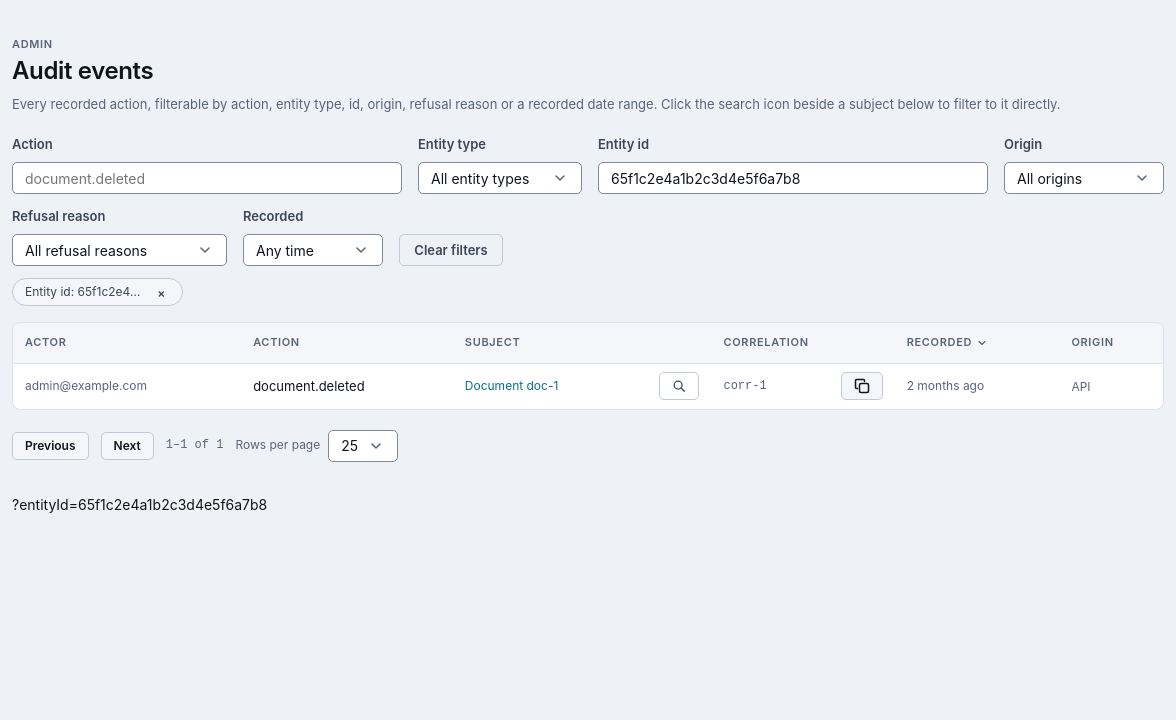
Scenario: AuditEventsPage › drops the entity id error when its chip is removed
expect the text "document.deleted" is shown: met, box x1=241 y1=364 x2=453 y2=409
Type "bad" into the field labelled "Entity id". click: (793, 178)
box: x1=598 y1=162 x2=988 y2=194
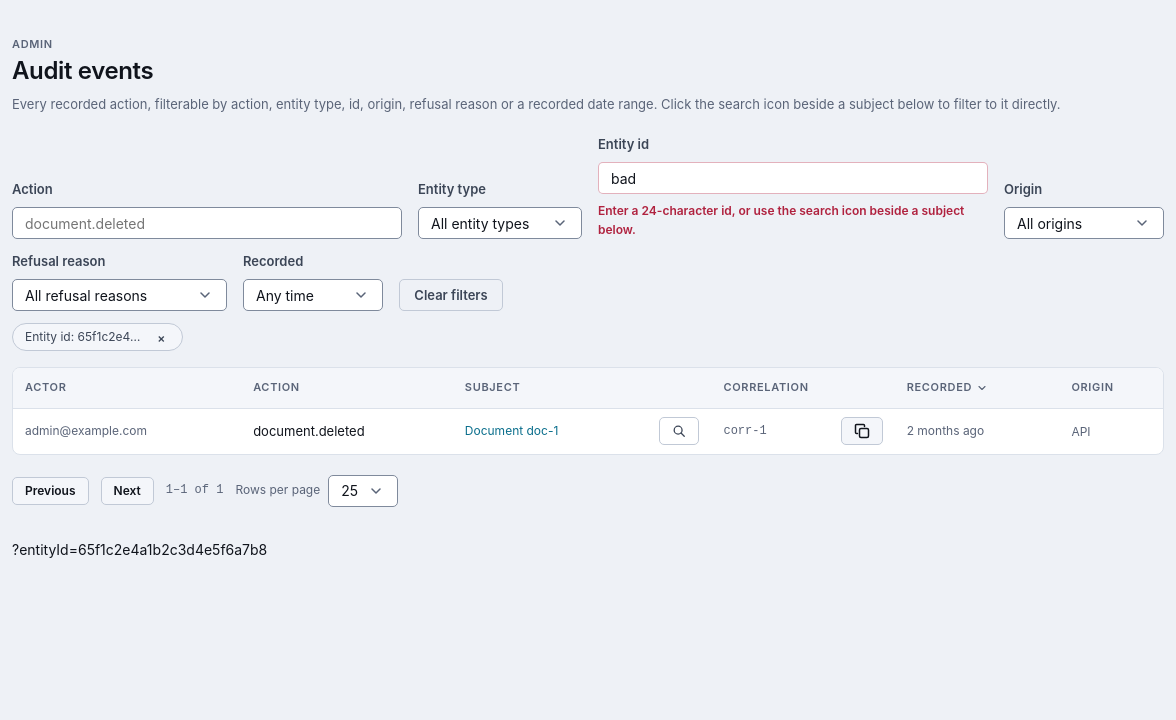
expect the text "Enter a 24-character id, or use the search icon beside a subject below." is shown: met, box x1=598 y1=202 x2=988 y2=239
Click the button named "Remove Entity id filter". click: (161, 337)
box: x1=144 y1=323 x2=178 y2=351
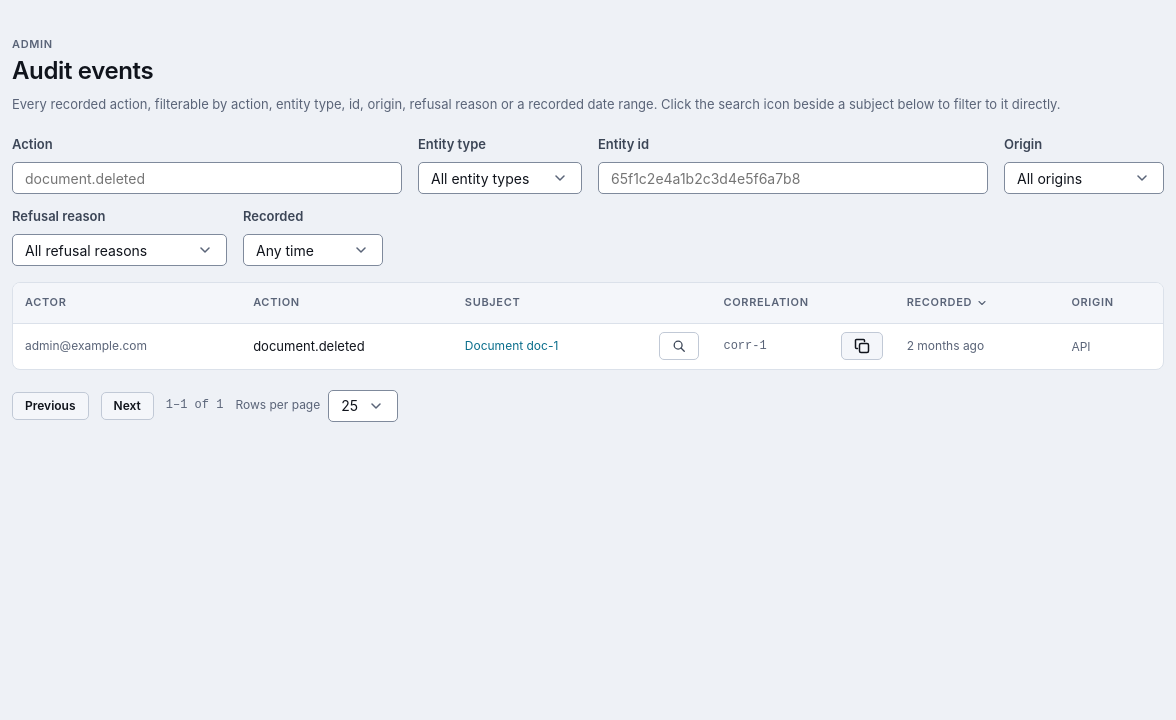
expect the text "Enter a 24-character id, or use the search icon beside a subject below." is gone: met
expect the field labelled "Entity id" is empty: met, box x1=598 y1=162 x2=988 y2=194
